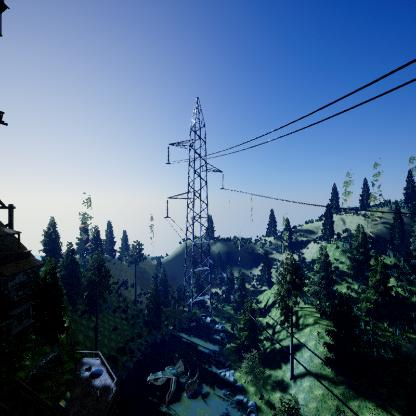tower: (162, 91, 231, 319)
